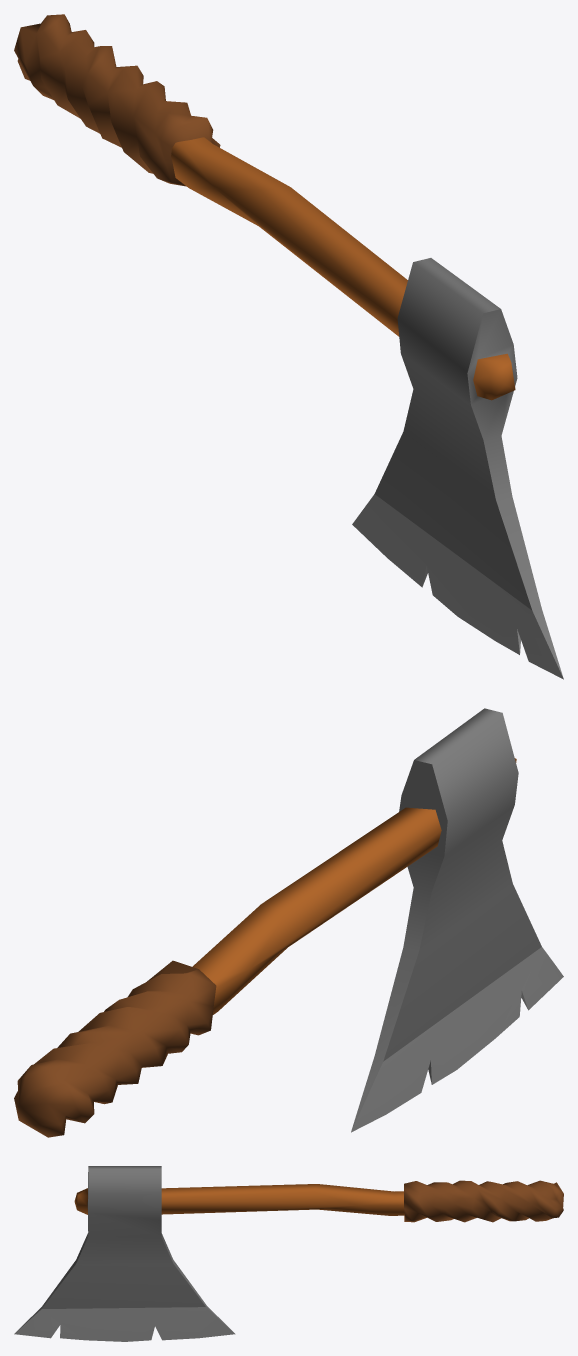
File: Axe.fbx
The picture shows the model from 3 angles, top to bottom: view 1: azimuth 30°, elevation 25°; view 2: azimuth 150°, elevation 25°; view 3: azimuth 270°, elevation 25°; orthographic projection. The views are drawn at different scales.
Visible parts, largest first — view 1: Circle.001; view 2: Circle.001; view 3: Circle.001.
Boxes of the visible parts, x1,y1,x2,y2 form: Circle.001: [14, 14, 563, 679]; Circle.001: [14, 708, 563, 1137]; Circle.001: [14, 1166, 563, 1341].
Bounding box in the file's own units: 129 × 579 × 1662.
